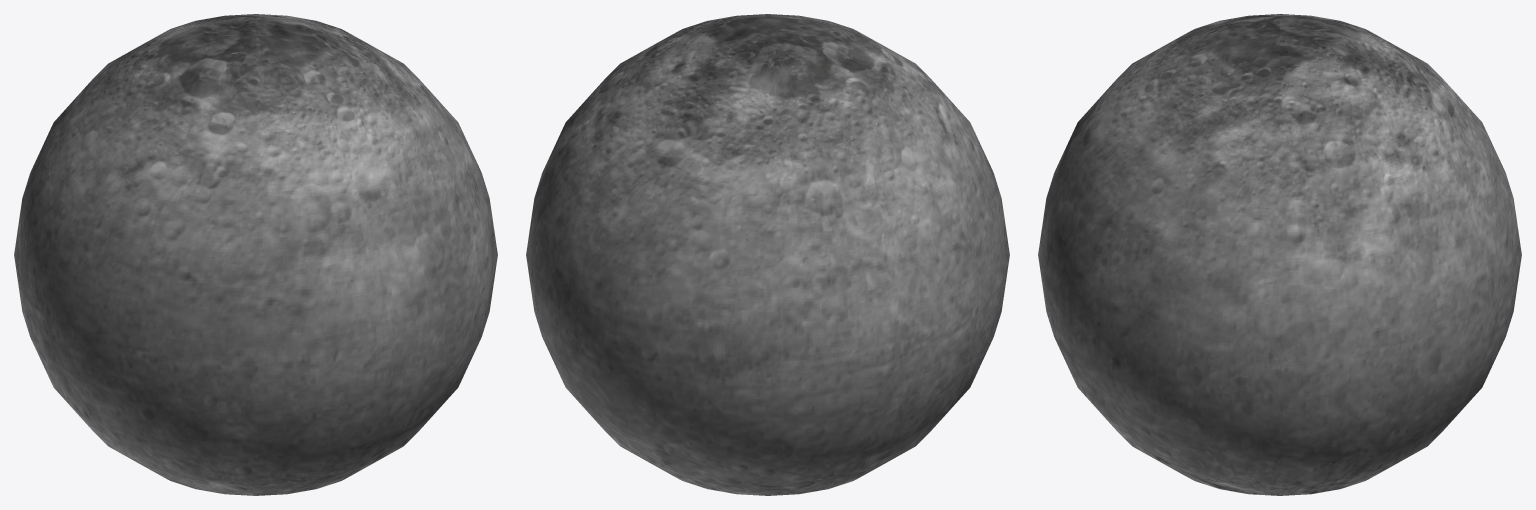
Rendered from vesta.glb.
3 renders of one model, left to right at view 1: azimuth 30°, elevation 25°; view 2: azimuth 150°, elevation 25°; view 3: azimuth 270°, elevation 25°, orthographic.
Parts seen in each view (by area): view 1: Object_2; view 2: Object_2; view 3: Object_2.
Part boxes in pixels (<box>): Object_2: <box>14,14,497,495</box>; Object_2: <box>526,14,1009,495</box>; Object_2: <box>1038,14,1521,495</box>.
Size of the model in its own units: 1 by 1 by 1.
Materials: 1 (1 with a texture image).
